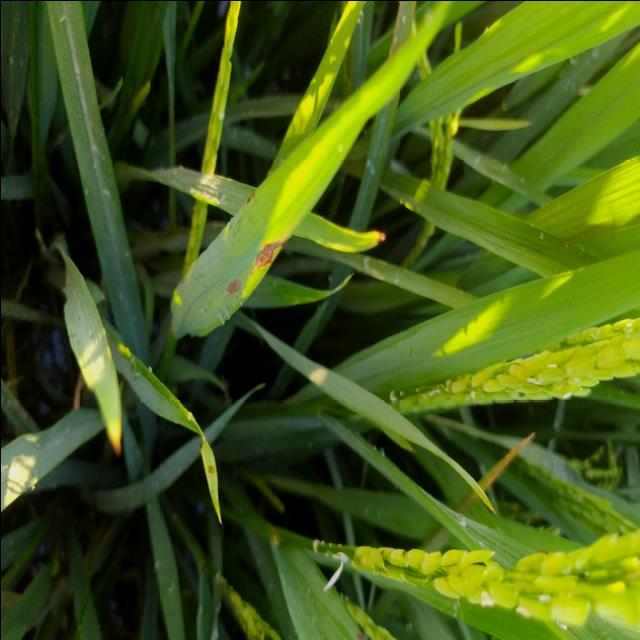insects: (218, 234, 295, 304)
